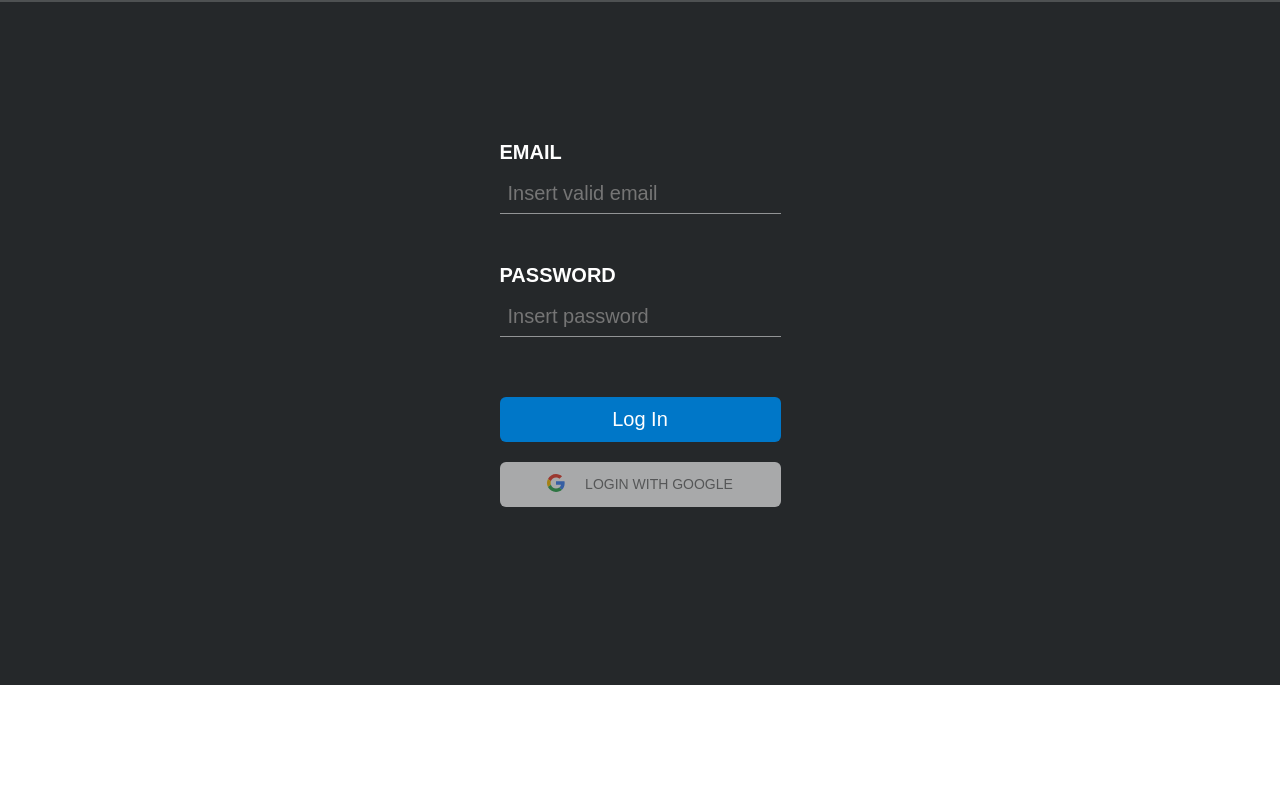
on submit, with invalid input data login, invalid error show up
In the field with placeholder "Insert valid email": x=640, y=194 [500,174,780,214], type "test#mail.com"
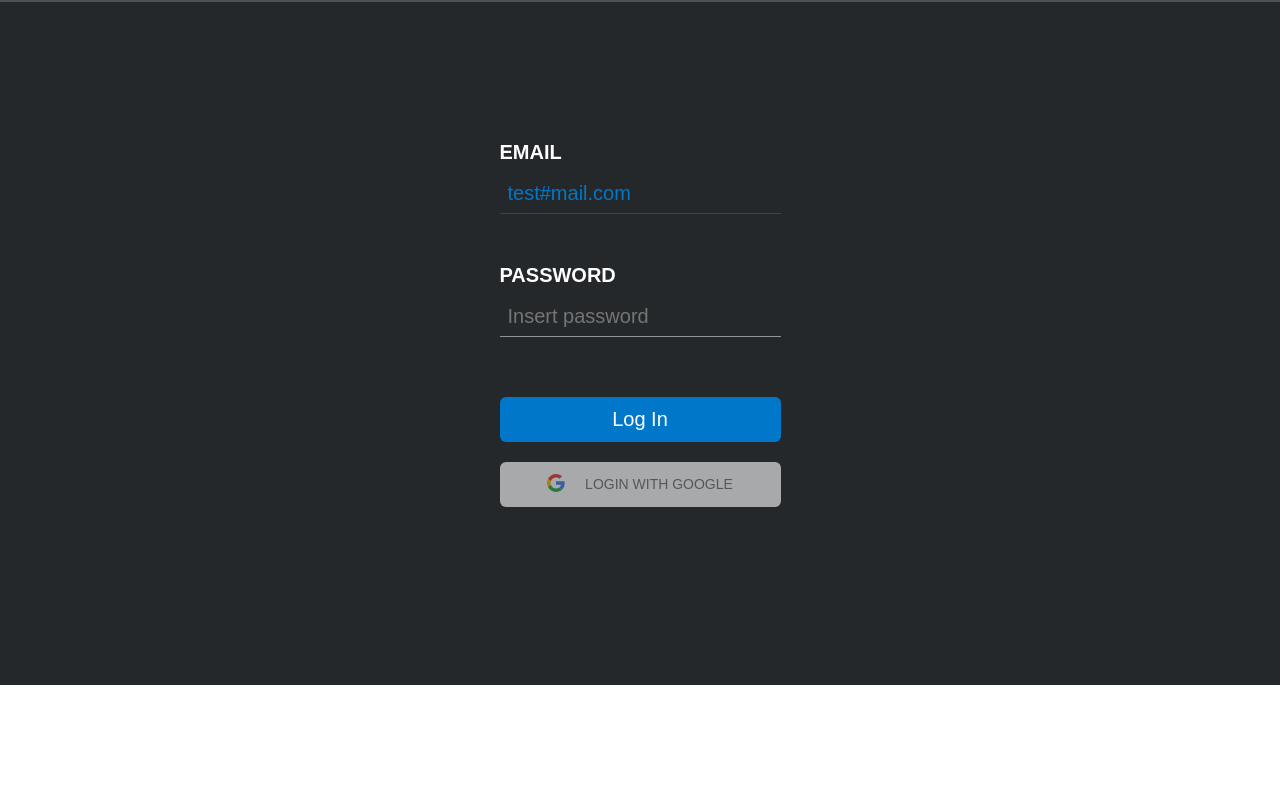
Click the button "Log In": x=640, y=419 [500,396,780,442]
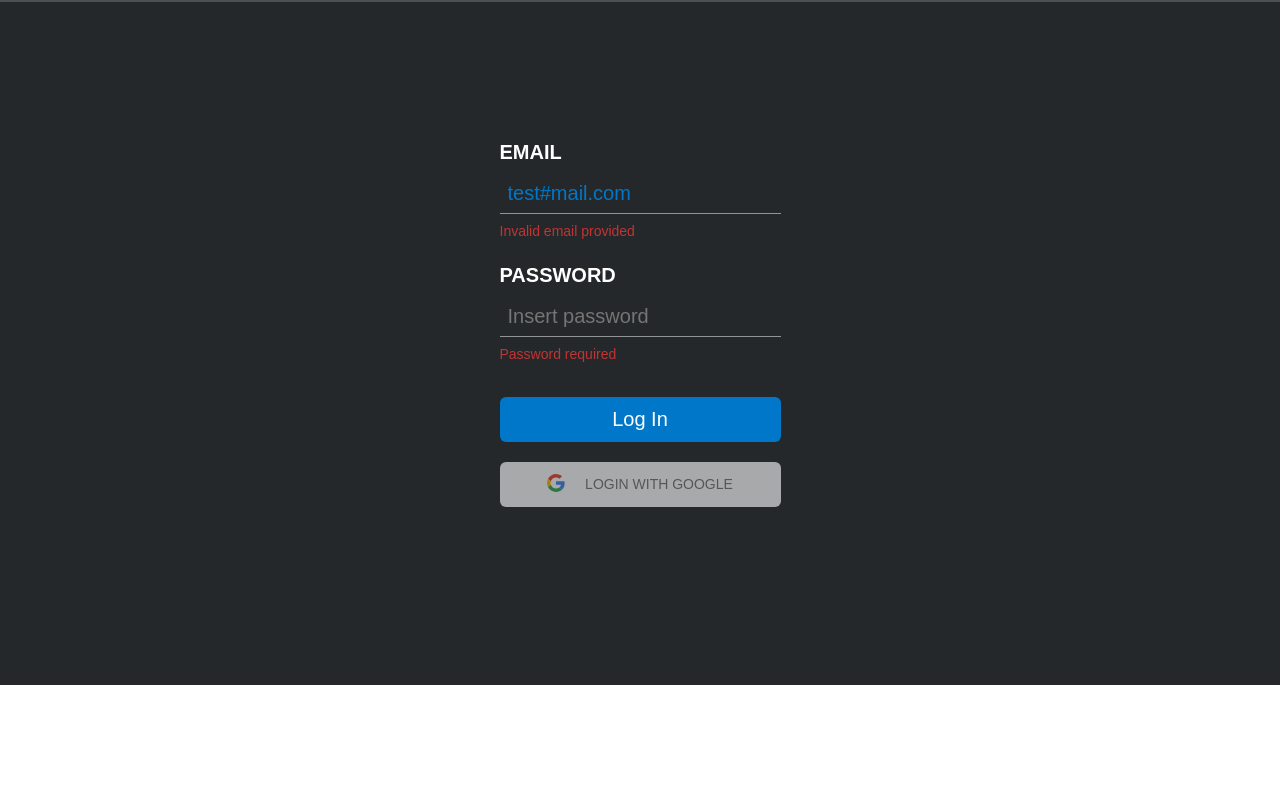
expect the text "Invalid email provided" is shown: met, box [500,222,635,238]
